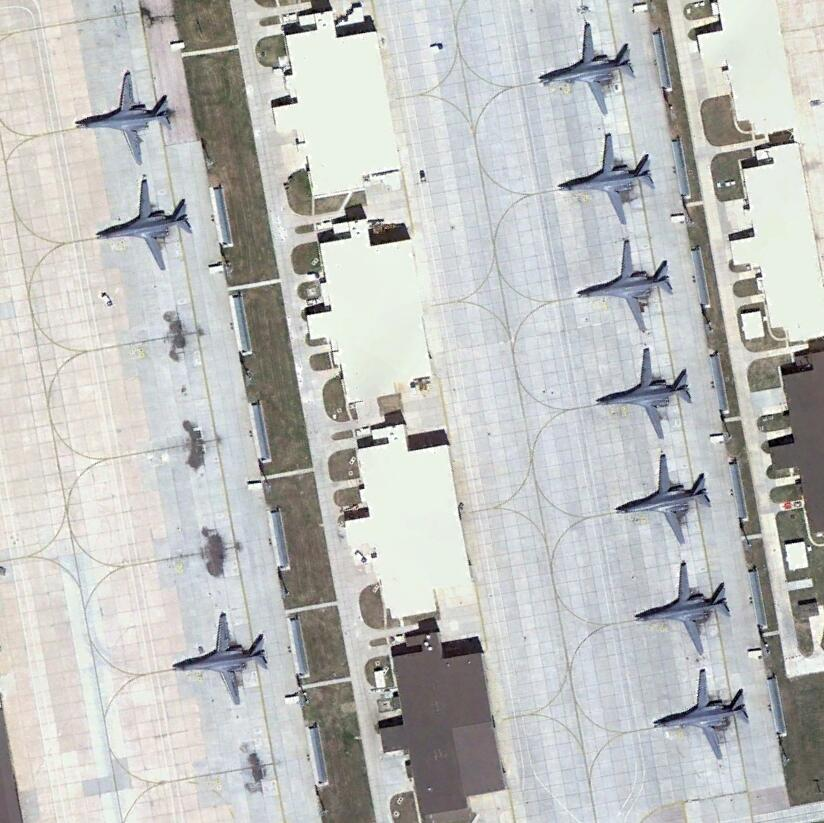A10: (93, 174, 199, 272), (71, 68, 179, 164), (537, 17, 639, 118), (634, 559, 733, 658), (592, 345, 696, 439), (557, 131, 657, 228), (573, 240, 675, 334), (615, 451, 715, 546), (652, 667, 752, 762), (174, 610, 271, 706)
